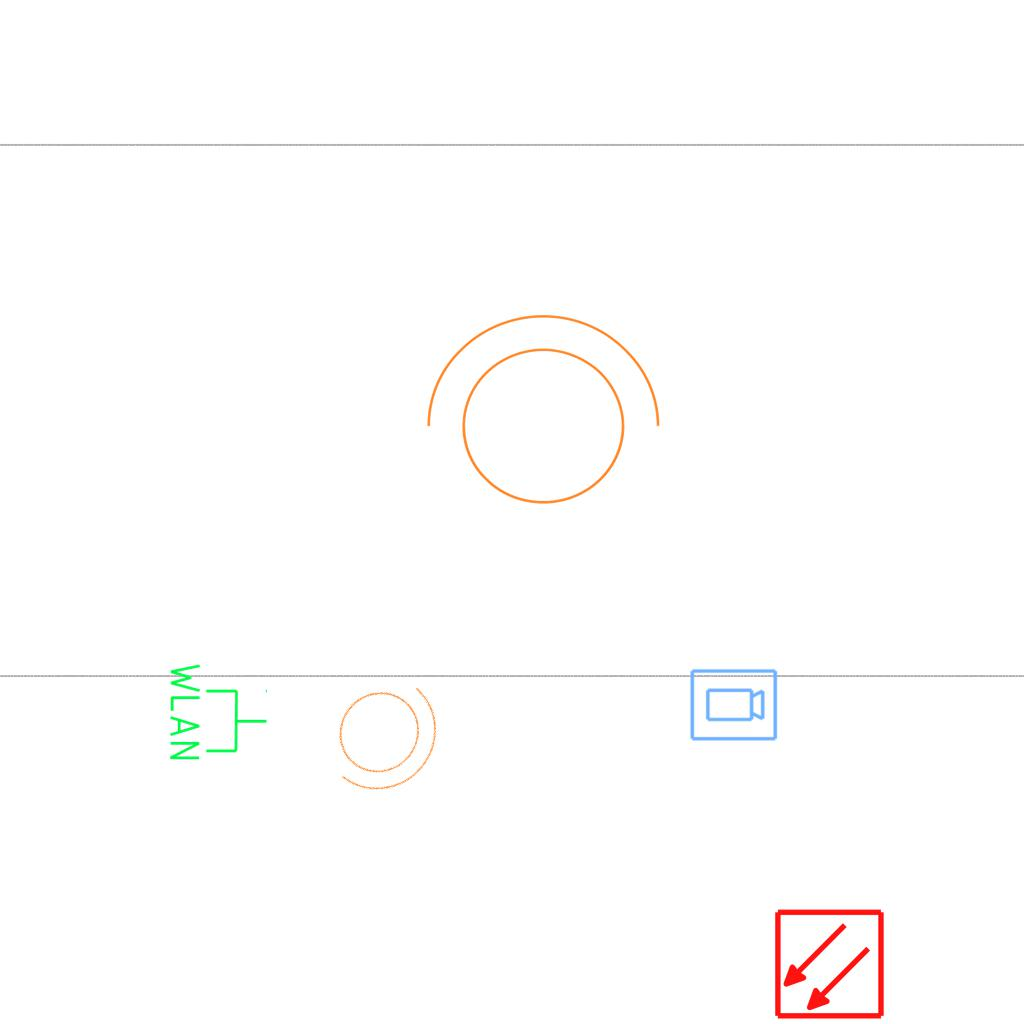KFO_Kamera_mit_Festobjektiv: (688, 667, 779, 744)
RMO_Rauchmelder_optischer: (773, 908, 886, 1021)
Scheinwerfer_fuer_Alarmbeleuchtung: (405, 304, 669, 529), (299, 646, 471, 820)
WLAN: (166, 659, 270, 764)
